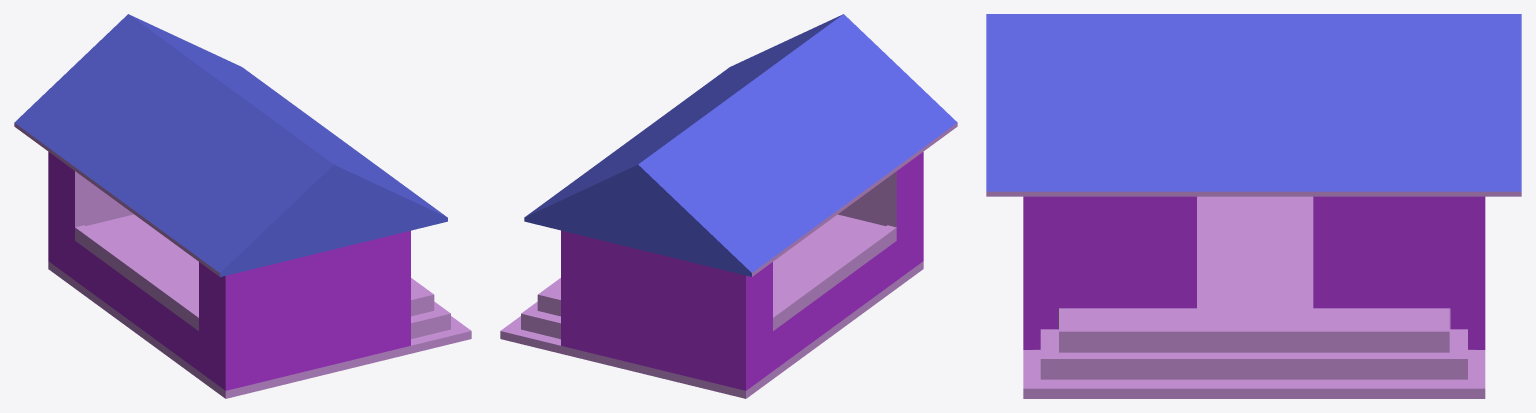
The model's file is house.fbx.
The picture shows the model from 3 angles, left to right: view 1: azimuth 30°, elevation 25°; view 2: azimuth 150°, elevation 25°; view 3: azimuth 270°, elevation 25°; orthographic projection. The views are drawn at different scales.
Visible parts, largest first — view 1: Cube; view 2: Cube; view 3: Cube.
Part boxes in pixels (left/top/right/bottom): Cube: left=14, top=14, right=471, bottom=398; Cube: left=500, top=14, right=957, bottom=398; Cube: left=986, top=14, right=1521, bottom=398.
Bounding box in the file's own units: 3459 × 2758 × 4637.
